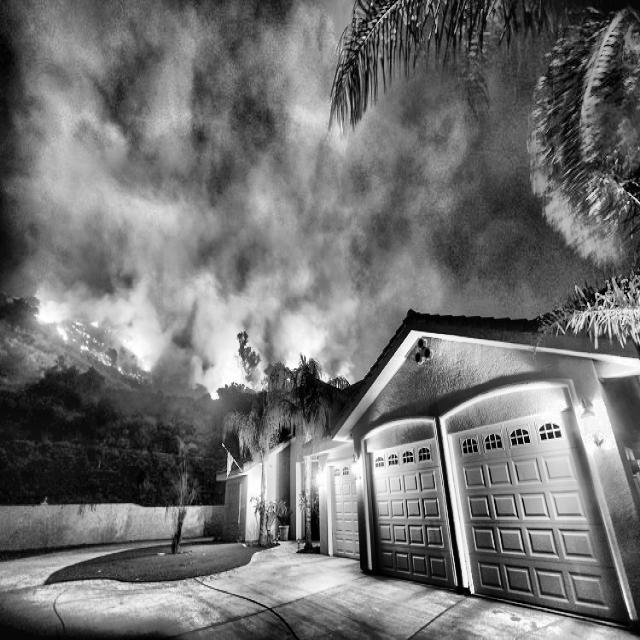fire: (25, 249, 351, 449)
